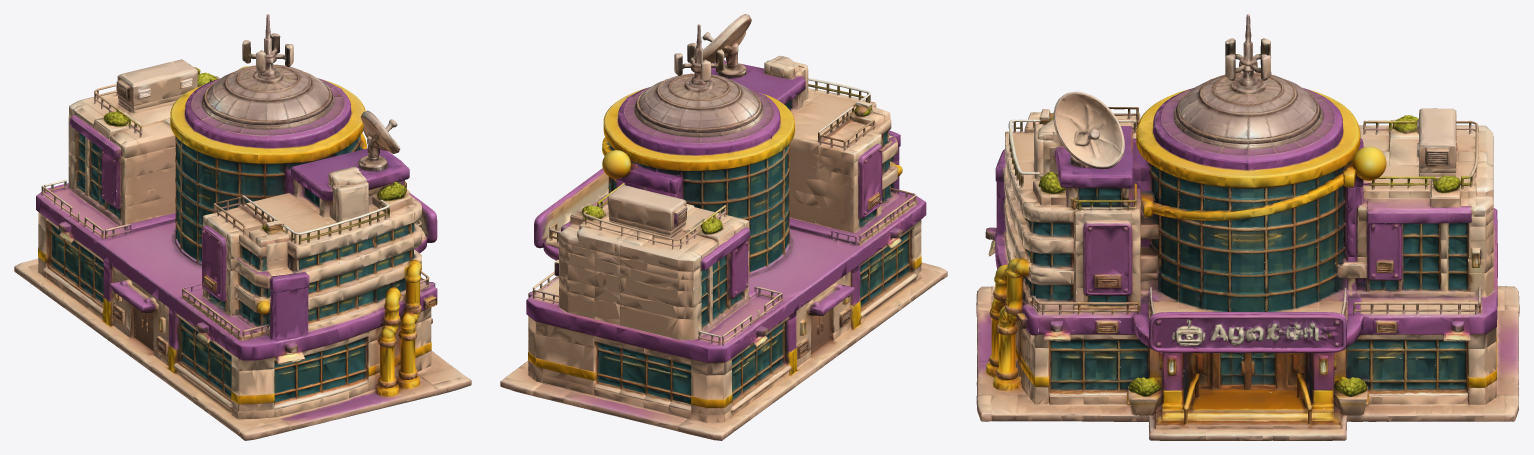
File: research-agent-center-detail.glb
3 views of the same model, side by side, from view 1: azimuth 30°, elevation 25°; view 2: azimuth 150°, elevation 25°; view 3: azimuth 270°, elevation 25° (orthographic). The views are drawn at different scales.
Visible parts, largest first — view 1: HERO_02_Agent_Center.001; view 2: HERO_02_Agent_Center.001; view 3: HERO_02_Agent_Center.001.
Part boxes in pixels (x1=…): HERO_02_Agent_Center.001: x1=14, y1=14, x2=471, y2=440; HERO_02_Agent_Center.001: x1=500, y1=14, x2=947, y2=440; HERO_02_Agent_Center.001: x1=976, y1=14, x2=1519, y2=440.
Bounding box in the file's own units: 11.02 × 12.05 × 16.52.
Materials: 1 (1 with a texture image).
